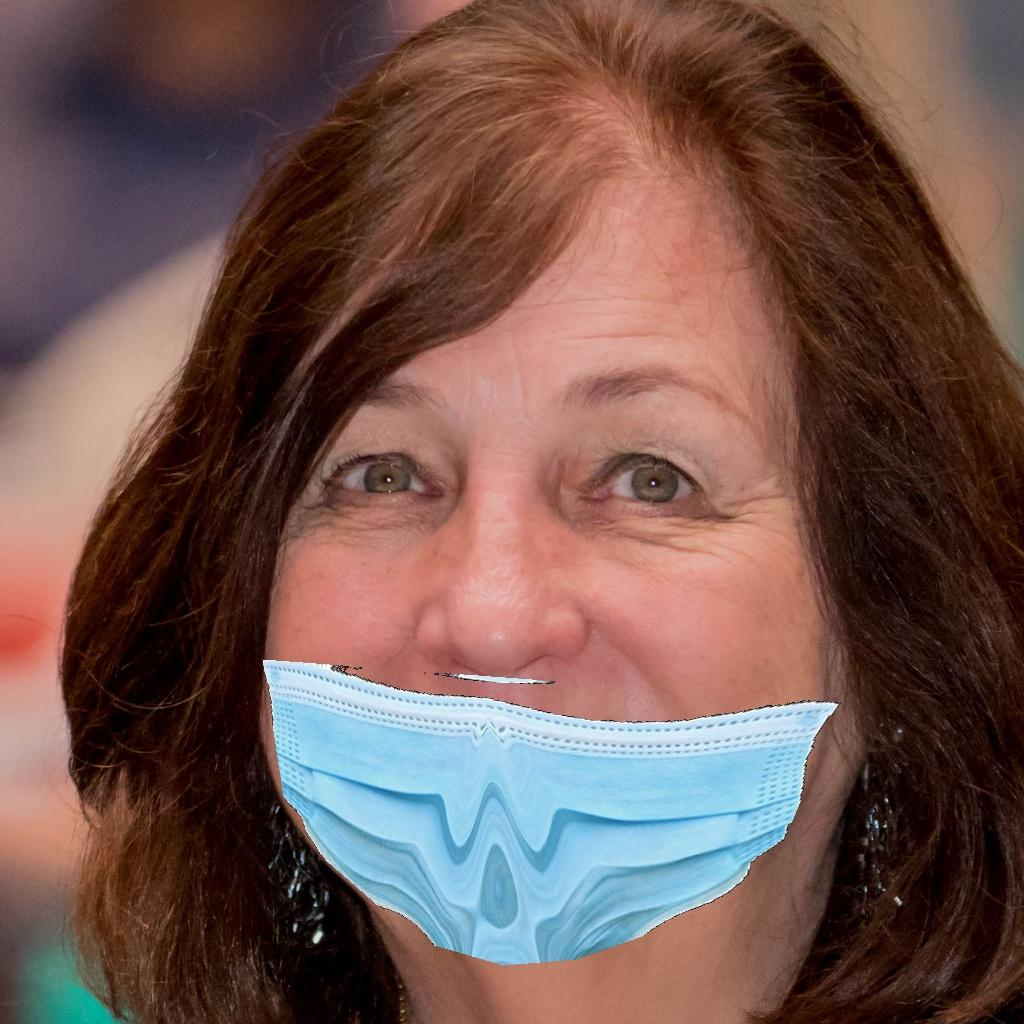Máscara Incorreta: (278, 333, 812, 940)
